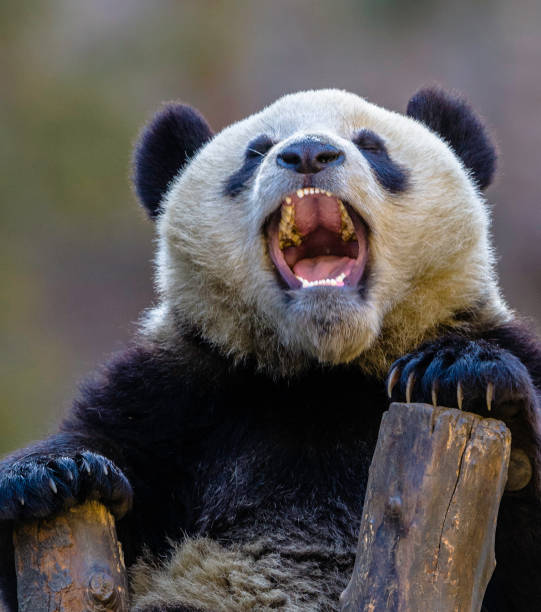panda: (103, 51, 506, 438)
